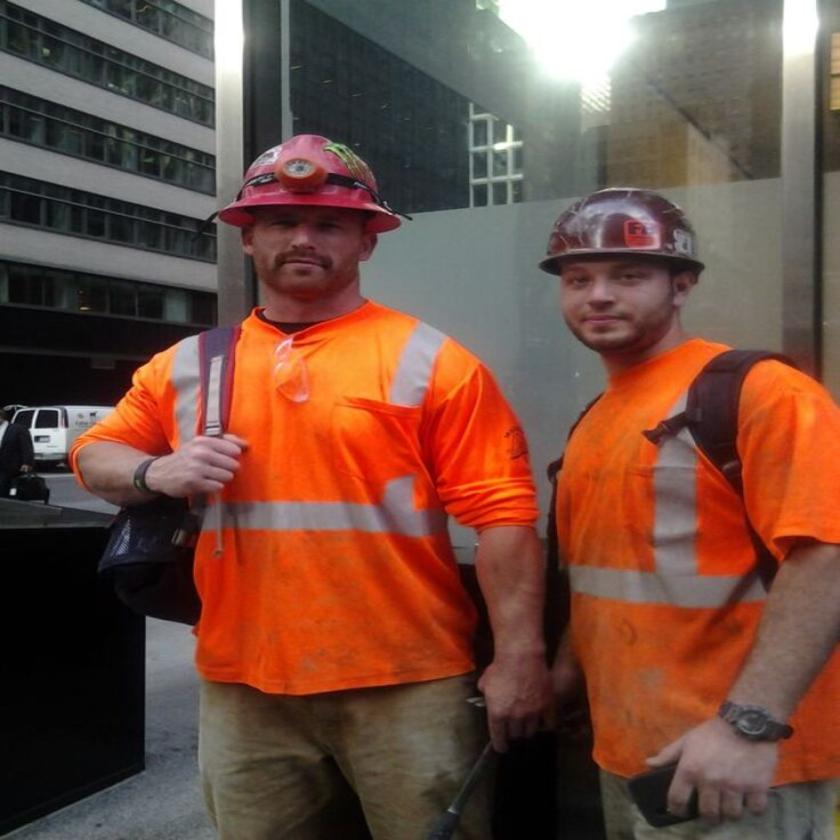Con_casco: (212, 126, 404, 319), (533, 182, 714, 378)
